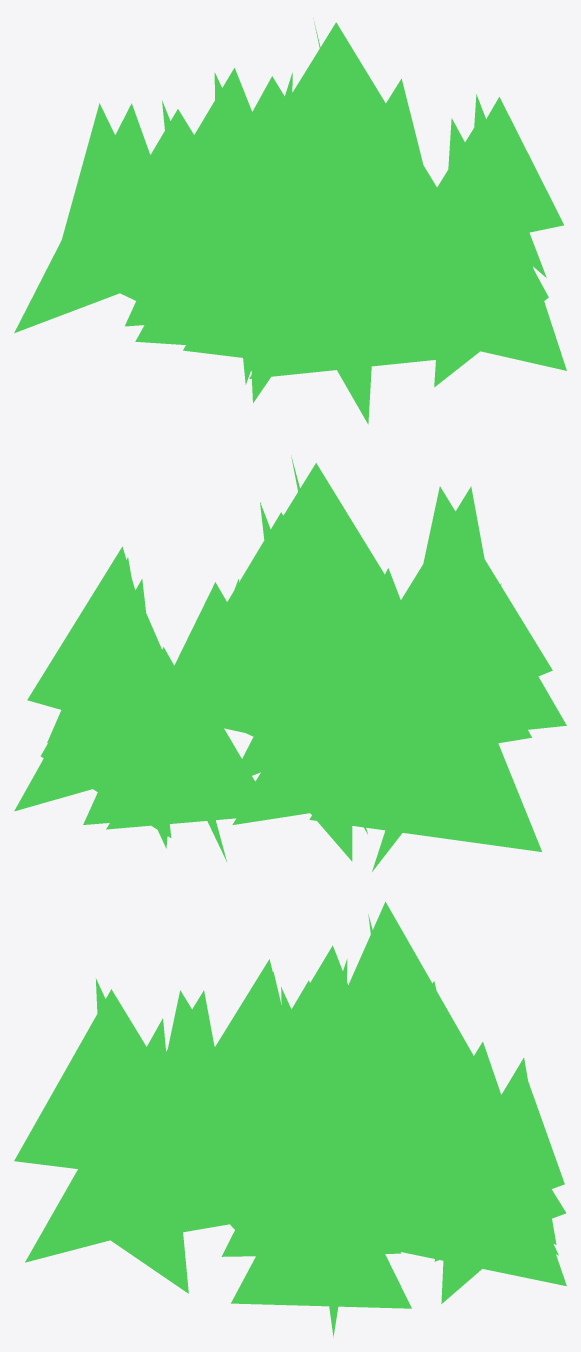
The model's file is canyon_plant_grass_001_fbx.fbx.
3 renders of one model, top to bottom at view 1: azimuth 30°, elevation 25°; view 2: azimuth 150°, elevation 25°; view 3: azimuth 270°, elevation 25°, orthographic. The views are drawn at different scales.
Visible parts, largest first — view 1: grass_01_lod0; view 2: grass_01_lod0; view 3: grass_01_lod0.
Part boxes in pixels (bbox=[...]): grass_01_lod0: bbox=[14, 18, 566, 424]; grass_01_lod0: bbox=[14, 455, 566, 871]; grass_01_lod0: bbox=[14, 901, 566, 1337].
Size of what is drawn, in the model's own units: 54.7 by 21.68 by 48.78.
